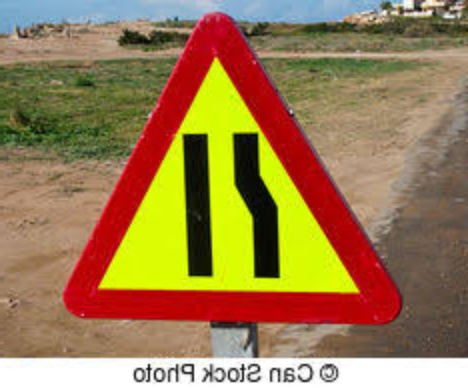Narrow_road: (64, 10, 404, 328)
